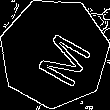M_NW: (21, 20, 88, 85)
